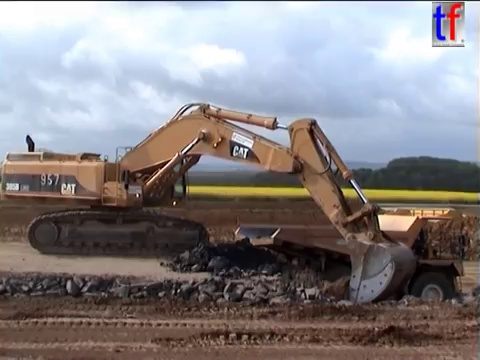excavator: (1, 98, 419, 312)
truck: (231, 204, 474, 319)
